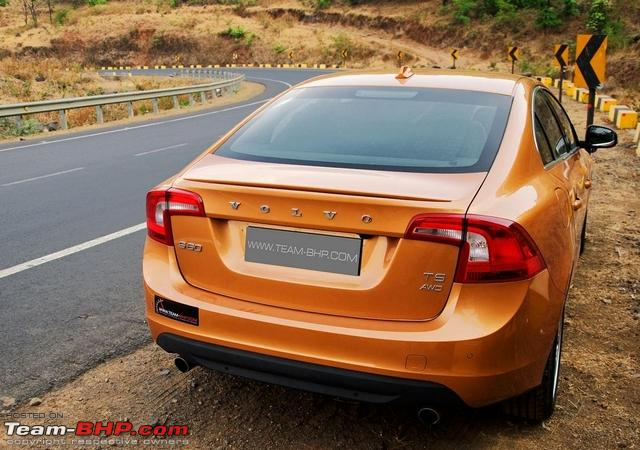Car: (130, 58, 623, 430)
